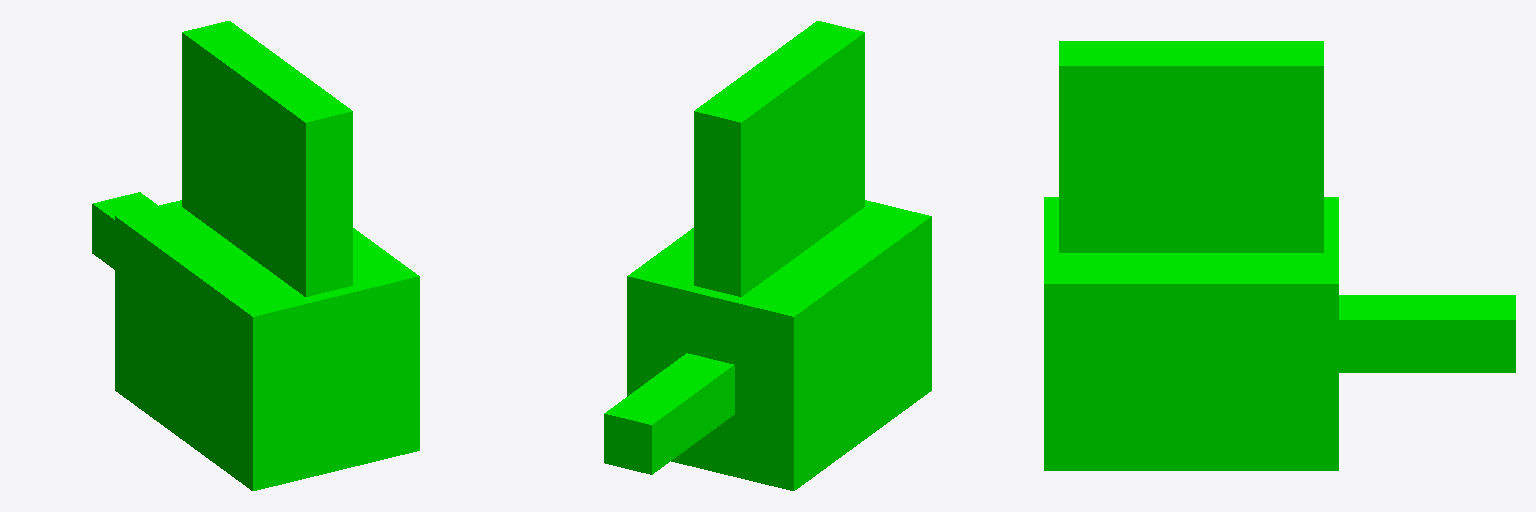
URDF robot description (robot):
<robot name = "robot">
    <link name="root">
        <inertial>
            <origin xyz="0.0 0.0 1.5" rpy="0 0 0"/>
            <mass value="1" />
            <inertia ixx="100" ixy="0" ixz="0" iyy="100" iyz="0" izz="100" />
        </inertial>
        <visual>
            <origin xyz="0.0 0.0 1.5" rpy="0 0 0"/>
            <geometry>
                <box size="0 0 0.0001" />
            </geometry>
            <material name="Green">
                <color rgba="0 1.0 0.0 1.0"/>
            </material>
        </visual>
        <collision>
            <origin xyz="0.0 0.0 1.5" rpy="0 0 0"/>
            <geometry>
                <box size="0 0 0.0001" />
            </geometry>
        </collision>
    </link>
    <joint name="root_000" type="revolute">
       <parent link="root"/>
       <child  link="000"/>
       <origin rpy="0 0 0" xyz="0.0 0.0 1.5" />
     <axis xyz="1 0 0"/>
       <limit effort="0.0" lower="-3.14159" upper="3.14159" velocity="0.0"/>
    </joint>
    <link name="000">
        <inertial>
            <origin xyz="0.0 0.15 0.0" rpy="0 0 0"/>
            <mass value="1" />
            <inertia ixx="100" ixy="0" ixz="0" iyy="100" iyz="0" izz="100" />
        </inertial>
        <visual>
            <origin xyz="0.0 0.15 0.0" rpy="0 0 0"/>
            <geometry>
                <box size="0.2 0.3 0.7" />
            </geometry>
            <material name="Green">
                <color rgba="0 1.0 0.0 1.0"/>
            </material>
        </visual>
        <collision>
            <origin xyz="0.0 0.15 0.0" rpy="0 0 0"/>
            <geometry>
                <box size="0.2 0.3 0.7" />
            </geometry>
        </collision>
    </link>
    <joint name="000_010" type="revolute">
       <parent link="000"/>
       <child  link="010"/>
       <origin rpy="0 0 0" xyz="0.0 0.3 -0.0" />
     <axis xyz="0 1 0"/>
       <limit effort="0.0" lower="-3.14159" upper="3.14159" velocity="0.0"/>
    </joint>
    <link name="010">
        <inertial>
            <origin xyz="0.0 0.15 -0.0" rpy="0 0 0"/>
            <mass value="1" />
            <inertia ixx="100" ixy="0" ixz="0" iyy="100" iyz="0" izz="100" />
        </inertial>
        <visual>
            <origin xyz="0.0 0.15 -0.0" rpy="0 0 0"/>
            <geometry>
                <box size="0.2 0.3 0.7" />
            </geometry>
            <material name="Green">
                <color rgba="0 1.0 0.0 1.0"/>
            </material>
        </visual>
        <collision>
            <origin xyz="0.0 0.15 -0.0" rpy="0 0 0"/>
            <geometry>
                <box size="0.2 0.3 0.7" />
            </geometry>
        </collision>
    </link>
    <joint name="010_020" type="revolute">
       <parent link="010"/>
       <child  link="020"/>
       <origin rpy="0 0 0" xyz="0.0 0.3 -0.0" />
     <axis xyz="0 1 0"/>
       <limit effort="0.0" lower="-3.14159" upper="3.14159" velocity="0.0"/>
    </joint>
    <link name="020">
        <inertial>
            <origin xyz="0.0 0.15 -0.0" rpy="0 0 0"/>
            <mass value="1" />
            <inertia ixx="100" ixy="0" ixz="0" iyy="100" iyz="0" izz="100" />
        </inertial>
        <visual>
            <origin xyz="0.0 0.15 -0.0" rpy="0 0 0"/>
            <geometry>
                <box size="0.2 0.3 0.7" />
            </geometry>
            <material name="Green">
                <color rgba="0 1.0 0.0 1.0"/>
            </material>
        </visual>
        <collision>
            <origin xyz="0.0 0.15 -0.0" rpy="0 0 0"/>
            <geometry>
                <box size="0.2 0.3 0.7" />
            </geometry>
        </collision>
    </link>
    <joint name="020_020-100" type="revolute">
       <parent link="020"/>
       <child  link="020-100"/>
       <origin rpy="0 0 0" xyz="0.0 0.15 -0.35" />
     <axis xyz="0 0 1"/>
       <limit effort="0.0" lower="-3.14159" upper="3.14159" velocity="0.0"/>
    </joint>
    <link name="020-100">
        <inertial>
            <origin xyz="0.0 0.0 -0.35" rpy="0 0 0"/>
            <mass value="1" />
            <inertia ixx="100" ixy="0" ixz="0" iyy="100" iyz="0" izz="100" />
        </inertial>
        <visual>
            <origin xyz="0.0 0.0 -0.35" rpy="0 0 0"/>
            <geometry>
                <box size="0.7 0.4 0.7" />
            </geometry>
            <material name="Green">
                <color rgba="0 1.0 0.0 1.0"/>
            </material>
        </visual>
        <collision>
            <origin xyz="0.0 0.0 -0.35" rpy="0 0 0"/>
            <geometry>
                <box size="0.7 0.4 0.7" />
            </geometry>
        </collision>
    </link>
    <joint name="020-100_020-100-200" type="revolute">
       <parent link="020-100"/>
       <child  link="020-100-200"/>
       <origin rpy="0 0 0" xyz="0.0 0.2 -0.35" />
     <axis xyz="0 1 0"/>
       <limit effort="0.0" lower="-3.14159" upper="3.14159" velocity="0.0"/>
    </joint>
    <link name="020-100-200">
        <inertial>
            <origin xyz="0.0 0.3 -0.0" rpy="0 0 0"/>
            <mass value="1" />
            <inertia ixx="100" ixy="0" ixz="0" iyy="100" iyz="0" izz="100" />
        </inertial>
        <visual>
            <origin xyz="0.0 0.3 -0.0" rpy="0 0 0"/>
            <geometry>
                <box size="0.2 0.6 0.2" />
            </geometry>
            <material name="Green">
                <color rgba="0 1.0 0.0 1.0"/>
            </material>
        </visual>
        <collision>
            <origin xyz="0.0 0.3 -0.0" rpy="0 0 0"/>
            <geometry>
                <box size="0.2 0.6 0.2" />
            </geometry>
        </collision>
    </link>
    <joint name="010_010-100" type="revolute">
       <parent link="010"/>
       <child  link="010-100"/>
       <origin rpy="0 0 0" xyz="0.0 0.15 -0.35" />
     <axis xyz="0 0 1"/>
       <limit effort="0.0" lower="-3.14159" upper="3.14159" velocity="0.0"/>
    </joint>
    <link name="010-100">
        <inertial>
            <origin xyz="0.0 0.0 -0.35" rpy="0 0 0"/>
            <mass value="1" />
            <inertia ixx="100" ixy="0" ixz="0" iyy="100" iyz="0" izz="100" />
        </inertial>
        <visual>
            <origin xyz="0.0 0.0 -0.35" rpy="0 0 0"/>
            <geometry>
                <box size="0.7 0.4 0.7" />
            </geometry>
            <material name="Green">
                <color rgba="0 1.0 0.0 1.0"/>
            </material>
        </visual>
        <collision>
            <origin xyz="0.0 0.0 -0.35" rpy="0 0 0"/>
            <geometry>
                <box size="0.7 0.4 0.7" />
            </geometry>
        </collision>
    </link>
    <joint name="000_000-100" type="revolute">
       <parent link="000"/>
       <child  link="000-100"/>
       <origin rpy="0 0 0" xyz="0.0 0.15 -0.35" />
     <axis xyz="0 0 1"/>
       <limit effort="0.0" lower="-3.14159" upper="3.14159" velocity="0.0"/>
    </joint>
    <link name="000-100">
        <inertial>
            <origin xyz="0.0 0.0 -0.35" rpy="0 0 0"/>
            <mass value="1" />
            <inertia ixx="100" ixy="0" ixz="0" iyy="100" iyz="0" izz="100" />
        </inertial>
        <visual>
            <origin xyz="0.0 0.0 -0.35" rpy="0 0 0"/>
            <geometry>
                <box size="0.7 0.4 0.7" />
            </geometry>
            <material name="Green">
                <color rgba="0 1.0 0.0 1.0"/>
            </material>
        </visual>
        <collision>
            <origin xyz="0.0 0.0 -0.35" rpy="0 0 0"/>
            <geometry>
                <box size="0.7 0.4 0.7" />
            </geometry>
        </collision>
    </link>
</robot>

--- Render facts (derived) ---
3 views of the same robot in one strip: view 1: azimuth 30°, elevation 25°; view 2: azimuth 150°, elevation 25°; view 3: azimuth 270°, elevation 25° (orthographic).
Model robot with 8 links and 7 joints (7 revolute), rooted at root, posed all joints at 0.
Links seen in each view (by area): view 1: 000-100, 000, 020-100, 010-100, 010, 020, [phone redacted]; view 2: 020-100, 020, 000-100, [phone redacted], 010-100, 010, 000; view 3: 020-100, 000-100, 010-100, 000, 010, 020, [phone redacted].
Boxes of the visible links, x1,y1,x2,y2 form: 000-100: (199,236,419,490); 000: (264,81,352,296); 020-100: (115,200,226,429); 010-100: (157,228,377,460); 010: (223,51,310,266); 020: (182,21,269,236); [phone redacted]: (92,192,157,269); 020-100: (627,236,848,490); 020: (694,81,782,296); 000-100: (818,200,931,429); [phone redacted]: (604,353,734,474); 010-100: (681,228,889,460); 010: (736,51,823,266); 000: (777,21,864,236); 020-100: (1221,197,1338,470); 000-100: (1044,197,1161,470); 010-100: (1133,253,1250,470); 000: (1059,41,1147,252); 010: (1148,41,1235,252); 020: (1236,41,1323,252); [phone redacted]: (1339,295,1515,372).
Bounding box of the posed robot: 0.7 × 1.6 × 1.4 m (x, y, z).
Geometry: primitives only (box / cylinder / sphere), no mesh files.
